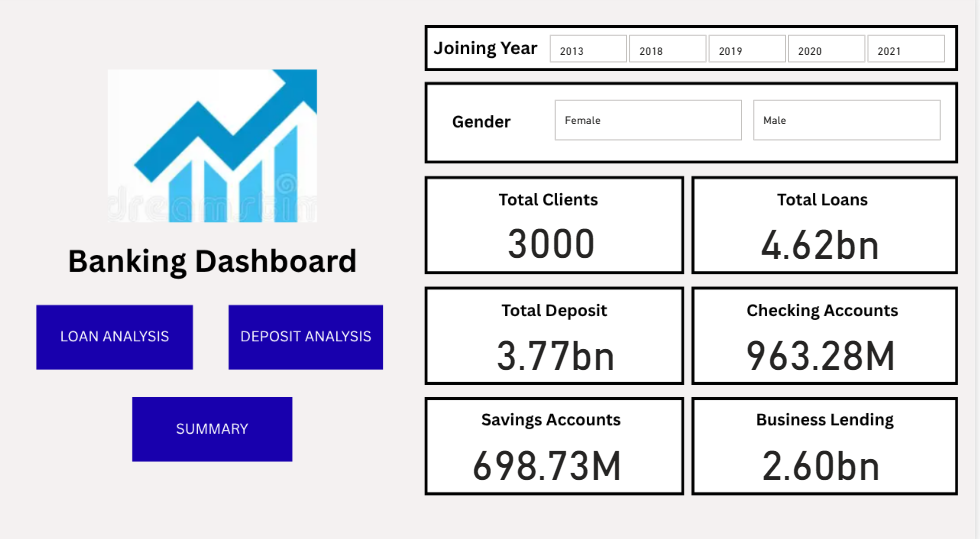

This screenshot's page, from the dashboard's own definition file:
{"tool":"powerbi","page":{"name":"Home ","canvas":[1280,720],"ordinal":0},"visuals":[{"type":"card","fields":{"Values":["CountNonNull(bank_details.Name)"]},"box":[646.2,286.2,157.5,64.4],"z":0},{"type":"advancedSlicerVisual","fields":{"Values":["bank_details.GenderId"]},"box":[725.7,132.7,515.7,63.8],"z":1000},{"type":"card","fields":{"Values":["bank_details.Total Loan"]},"box":[967.7,286.2,220,64.6],"z":2000},{"type":"card","fields":{"Values":["bank_details.Total Deposit"]},"box":[615.7,432,232.2,66.1],"z":3000},{"type":"advancedSlicerVisual","fields":{"Values":["bank_details.Year of Joining"]},"box":[718.8,47.5,528.8,46.2],"z":4000},{"type":"card","fields":{"Values":["Sum(bank_details.Checking Accounts)"]},"box":[966.9,430.5,220.4,67.6],"z":5000},{"type":"card","fields":{"Values":["Sum(bank_details.Saving Accounts)"]},"box":[605.4,574.5,229.2,67.6],"z":6000},{"type":"card","fields":{"Values":["Sum(bank_details.Business Lending)"]},"box":[966.9,574.5,221.9,67.6],"z":7000},{"type":"actionButton","box":[55.8,410,198.4,73.5],"z":8000},{"type":"actionButton","box":[305.6,410,198.4,73.5],"z":9000},{"type":"actionButton","box":[179.3,523.1,207.2,85.2],"z":10000}]}

Visuals, with their boxes in screenshot pixels (x1, y1, x2, y2), scaled from the page's 1280x720 canvas onto the 980x539 screenshot:
card - CountNonNull(bank_details.Name): (495, 214, 615, 262)
advancedSlicerVisual - bank_details.GenderId: (556, 99, 950, 147)
card - bank_details.Total Loan: (741, 214, 909, 263)
card - bank_details.Total Deposit: (471, 323, 649, 373)
advancedSlicerVisual - bank_details.Year of Joining: (550, 36, 955, 70)
card - Sum(bank_details.Checking Accounts): (740, 322, 909, 373)
card - Sum(bank_details.Saving Accounts): (464, 430, 639, 481)
card - Sum(bank_details.Business Lending): (740, 430, 910, 481)
actionButton: (43, 307, 195, 362)
actionButton: (234, 307, 386, 362)
actionButton: (137, 392, 296, 455)
